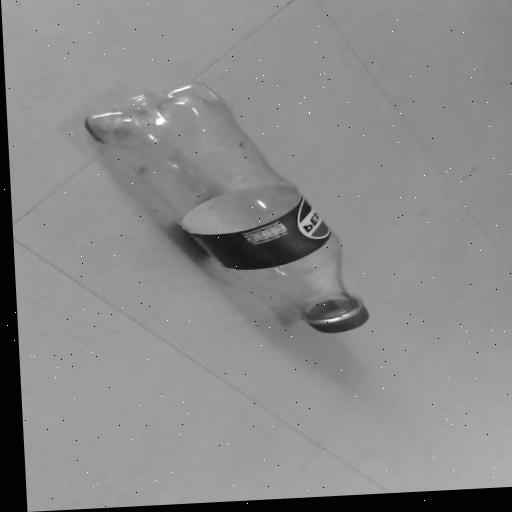bottle: (57, 38, 413, 366)
